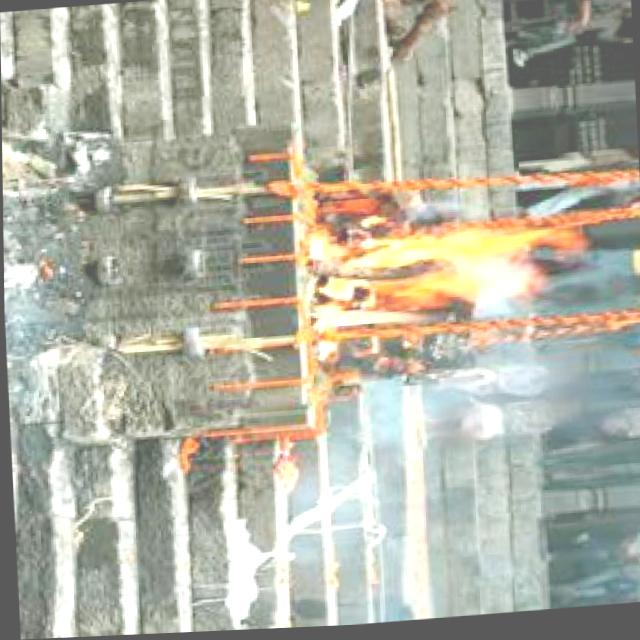Fire: (299, 214, 579, 342)
